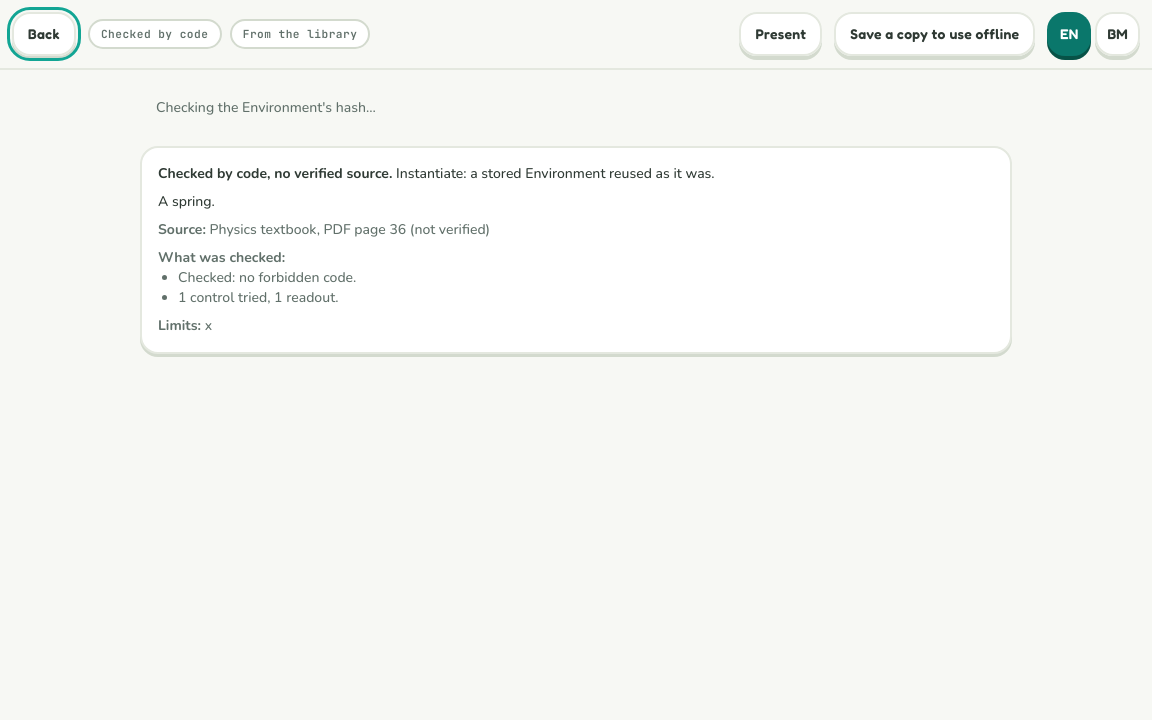
Test: Present mode › folds the long provenance away, keeps it mounted, and stops presenting on the same button
This screenshot has width=1152, height=720.
Click the button "Present".
click(781, 34)  # box [740,12,822,56]
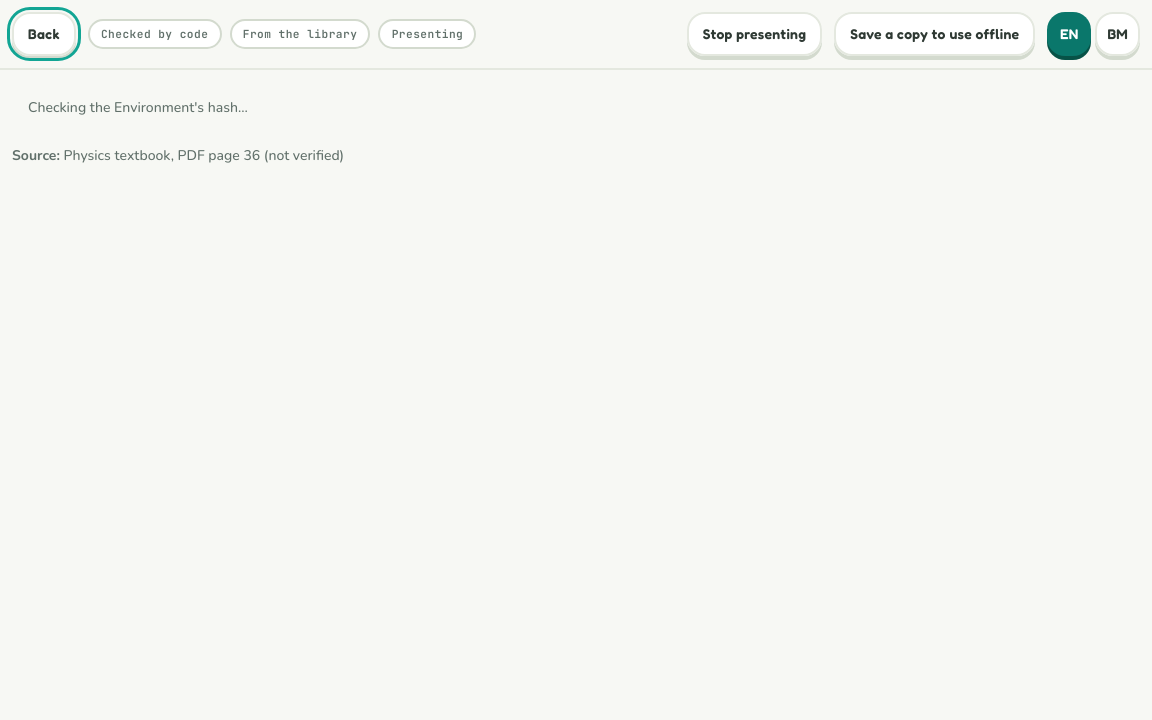
Click the button "Stop presenting".
click(754, 34)  # box [687,12,822,56]
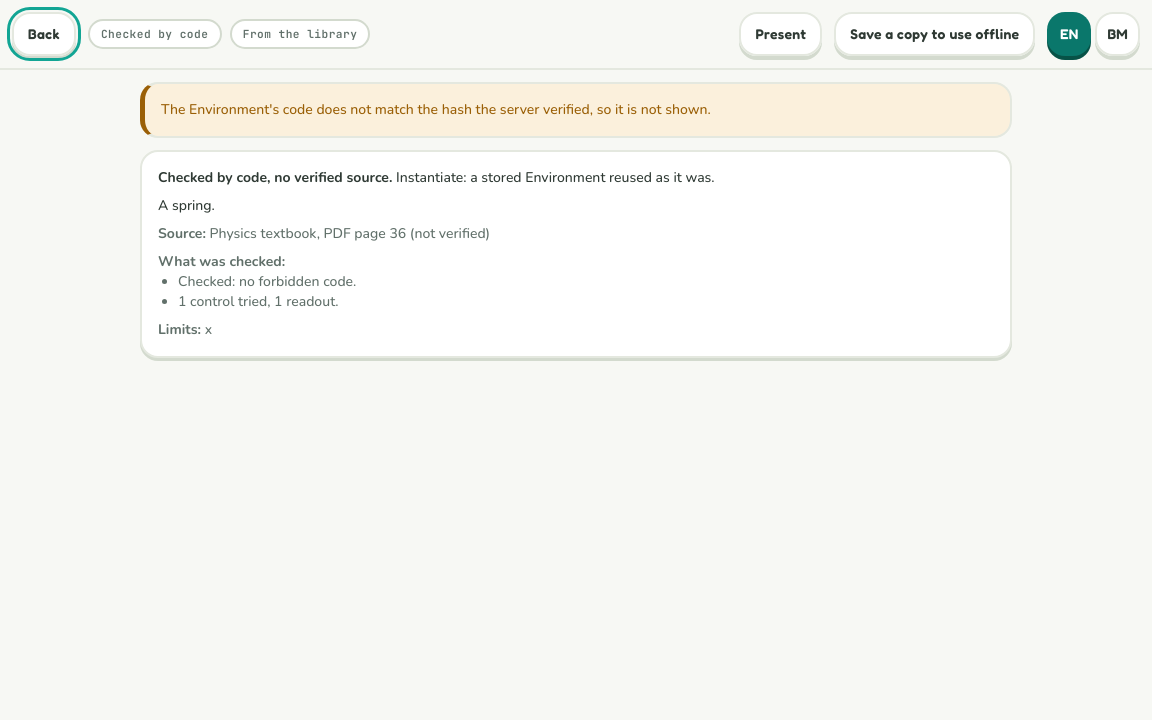
Result: the element with test id "present-source" is gone
